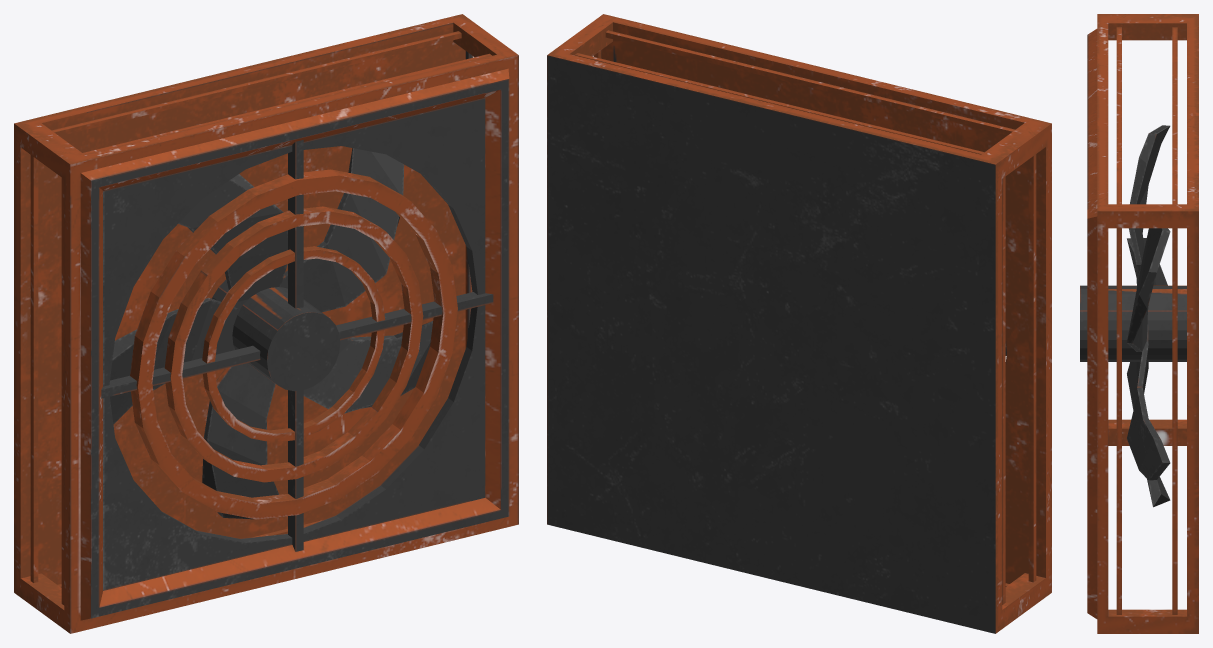
File: FanHigher.gltf
3 views of the same model, side by side, from view 1: azimuth 30°, elevation 25°; view 2: azimuth 150°, elevation 25°; view 3: azimuth 270°, elevation 25° (orthographic). The views are drawn at different scales.
Visible parts, largest first — view 1: Wiatrak, Ostrza; view 2: Wiatrak; view 3: Wiatrak, Ostrza.
Part boxes in pixels (x1,y1,x2,y2): Wiatrak: (14, 14, 518, 633); Ostrza: (110, 148, 432, 519); Wiatrak: (547, 14, 1051, 633); Wiatrak: (1080, 14, 1198, 633); Ostrza: (1127, 125, 1170, 507).
Bounding box in the file's own units: 2 × 2 × 0.5091.
